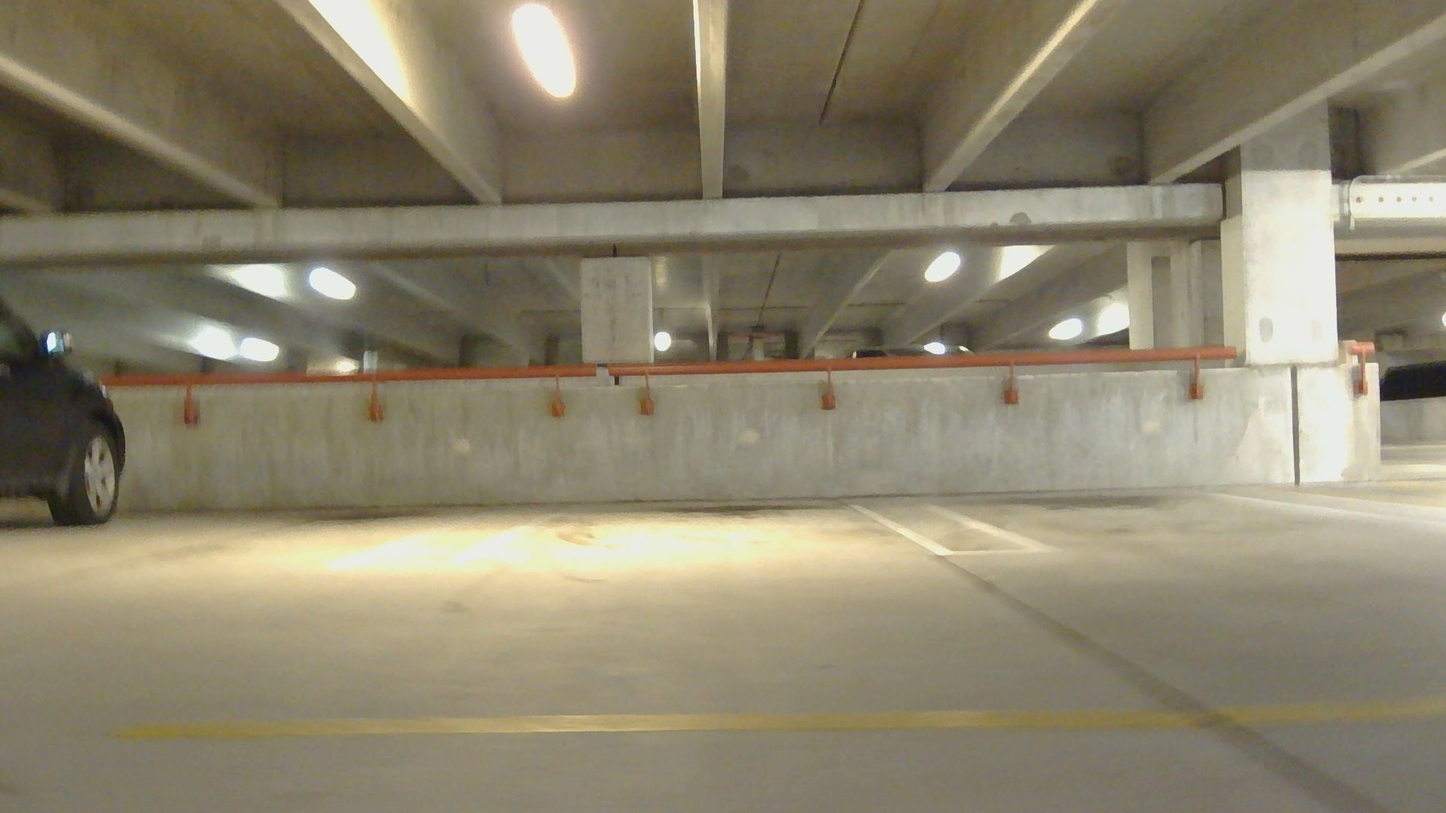empty_spot: (414, 441, 968, 574), (890, 435, 1446, 560), (0, 457, 502, 581)
occupied_spot: (0, 294, 131, 537)
